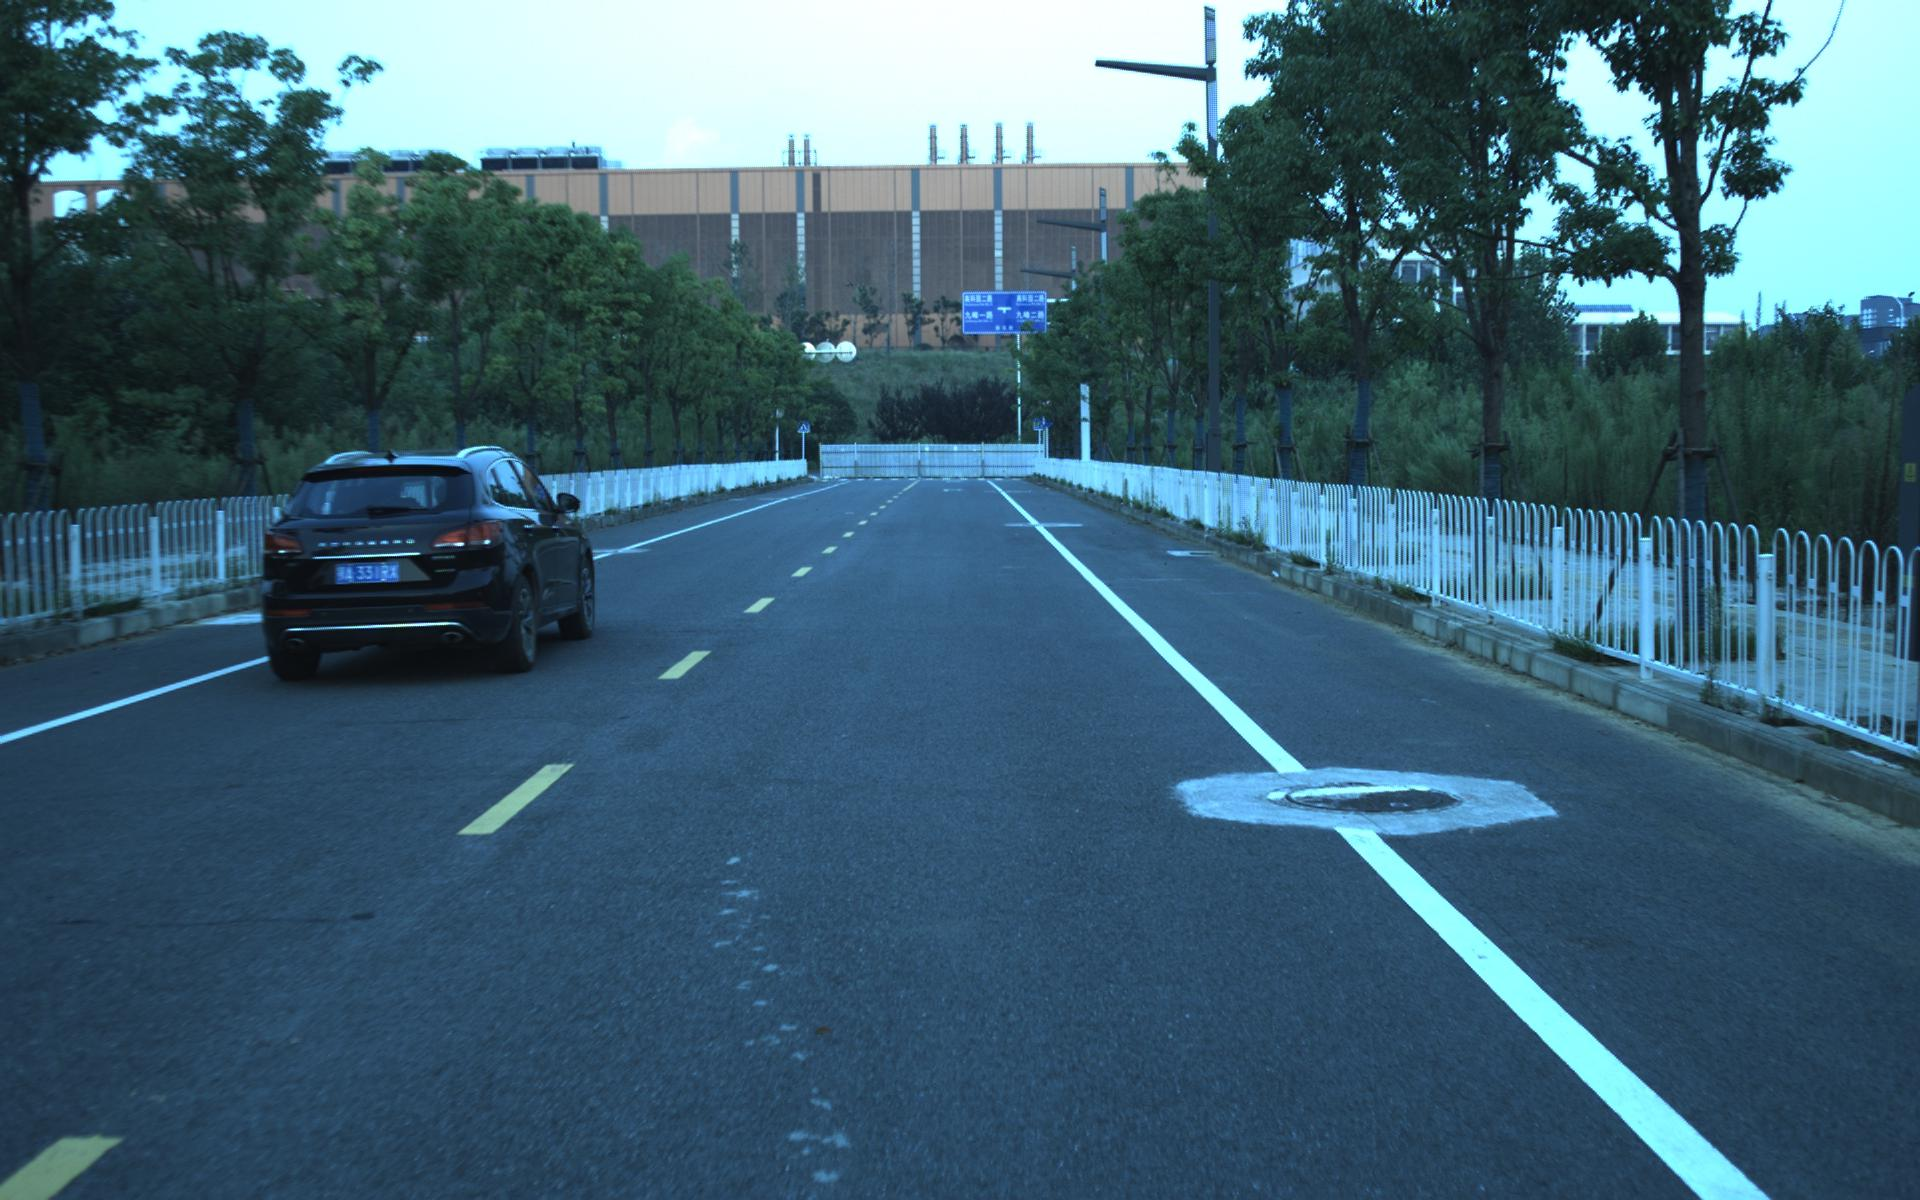Car: (243, 437, 603, 683)
